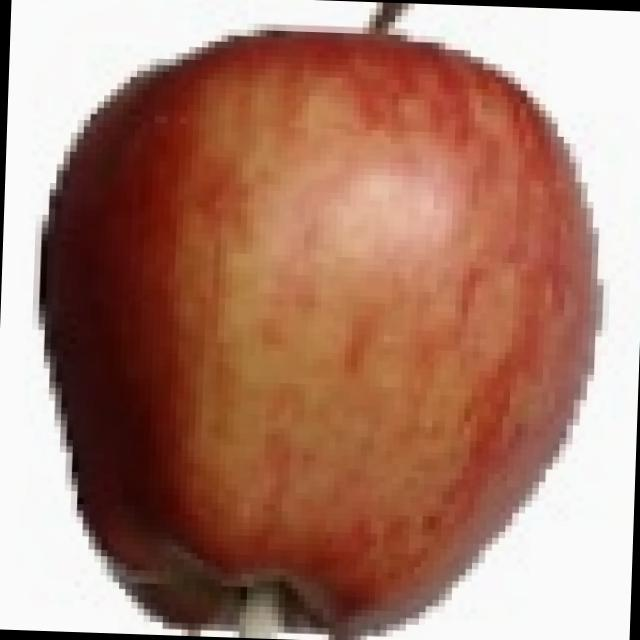apple: (13, 12, 629, 640)
